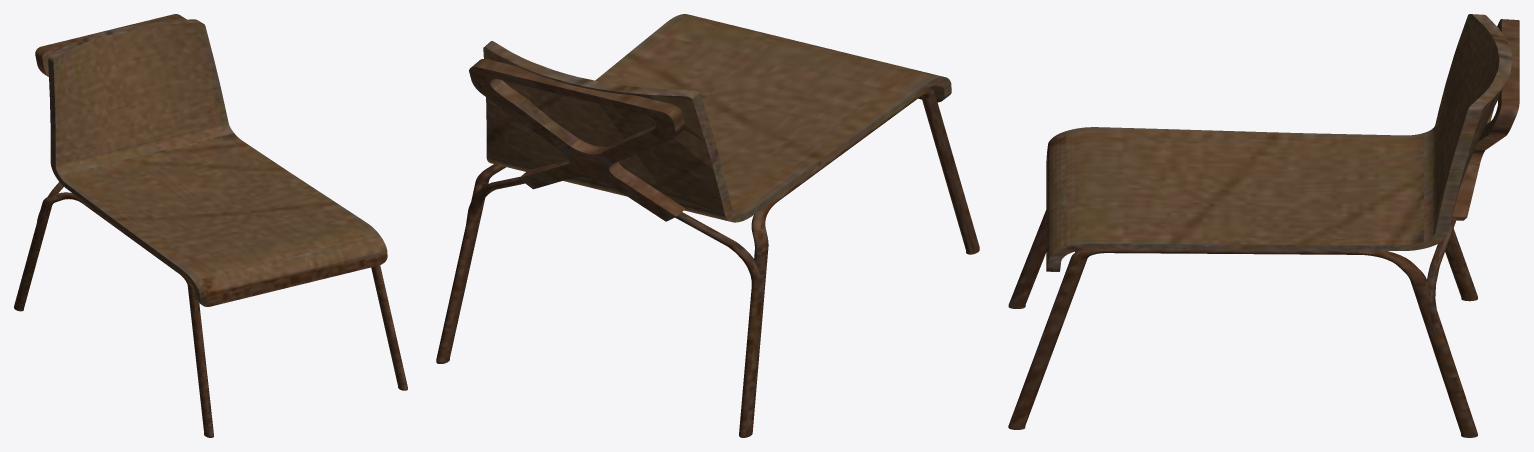
The model's file is chair_15.glb.
3 renders of one model, left to right at view 1: azimuth 30°, elevation 25°; view 2: azimuth 150°, elevation 25°; view 3: azimuth 270°, elevation 25°, orthographic. The views are drawn at different scales.
Visible parts, largest first — view 1: chair_15; view 2: chair_15; view 3: chair_15.
Part boxes in pixels (x1,y1,x2,y2): chair_15: [14, 14, 407, 437]; chair_15: [436, 14, 979, 437]; chair_15: [1008, 14, 1519, 437].
Size of the model in its own units: 1.58 by 1.61 by 2.42.
Materials: 1 (1 with a texture image).
